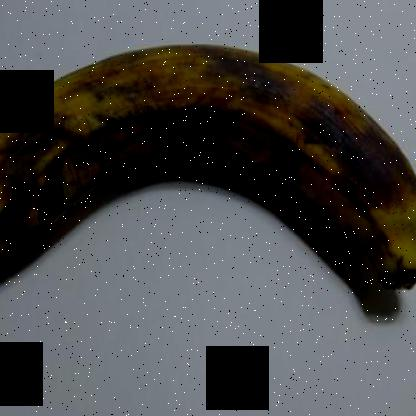overripe: (1, 38, 415, 332)
